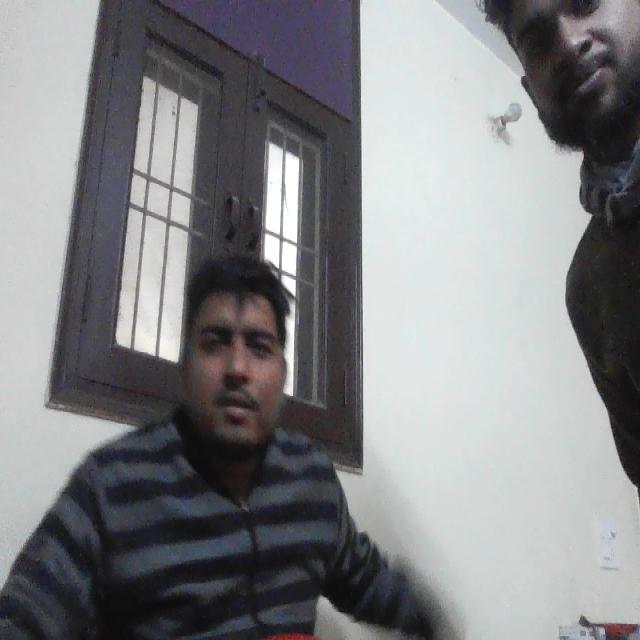real: (178, 227, 300, 457)
